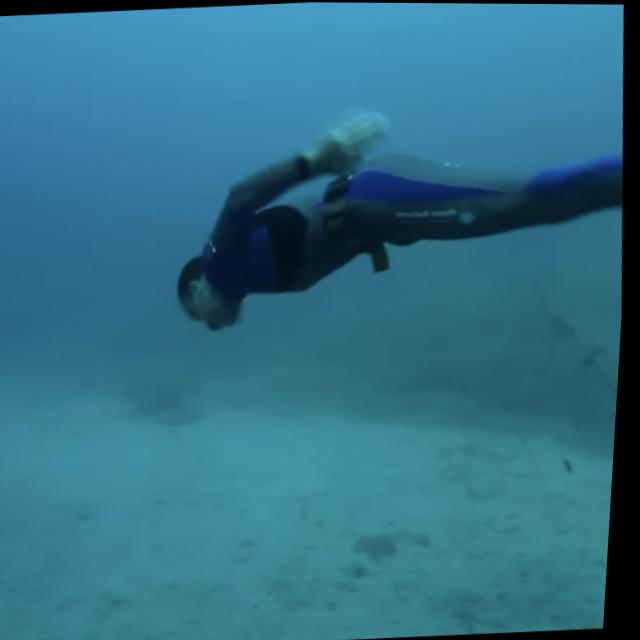human: (162, 90, 636, 339)
